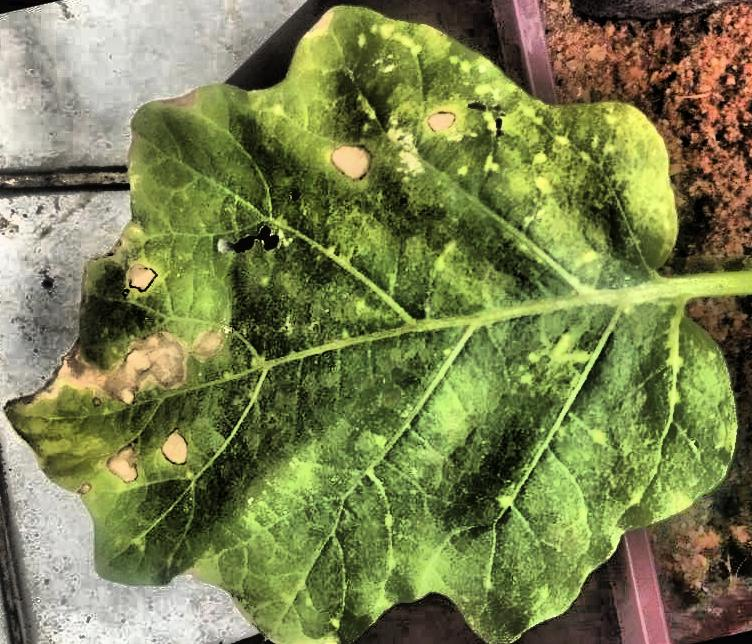Critical Stress: (0, 1, 752, 644)
